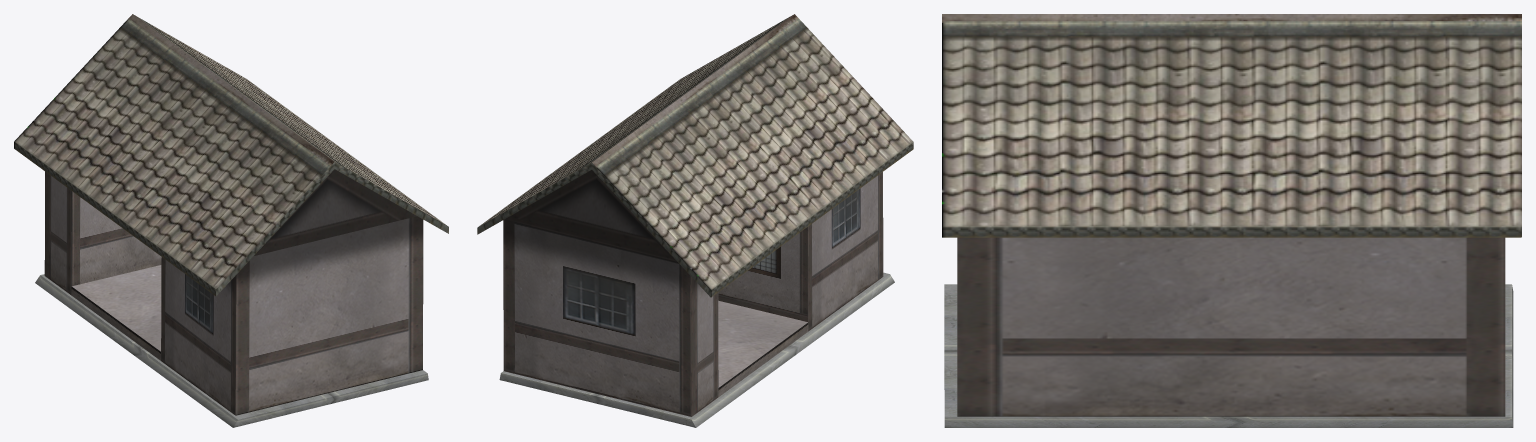
The model's file is 60sangga.FBX.
3 views of the same model, side by side, from view 1: azimuth 30°, elevation 25°; view 2: azimuth 150°, elevation 25°; view 3: azimuth 270°, elevation 25° (orthographic). The views are drawn at different scales.
Parts seen in each view (by area): view 1: Object001; view 2: Object001; view 3: Object001.
Boxes of the visible parts, x1,y1,x2,y2 form: Object001: [14, 14, 448, 427]; Object001: [477, 14, 913, 427]; Object001: [942, 14, 1521, 427].
Size of the model in its own units: 19.51 by 19.39 by 29.33.
Materials: 3 (3 with a texture image).
